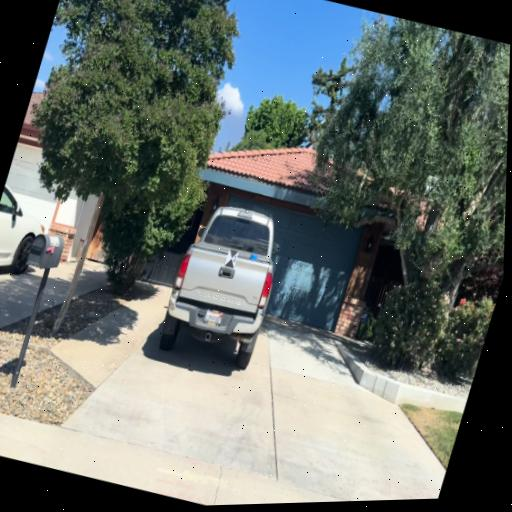target1: (225, 248, 238, 268)
